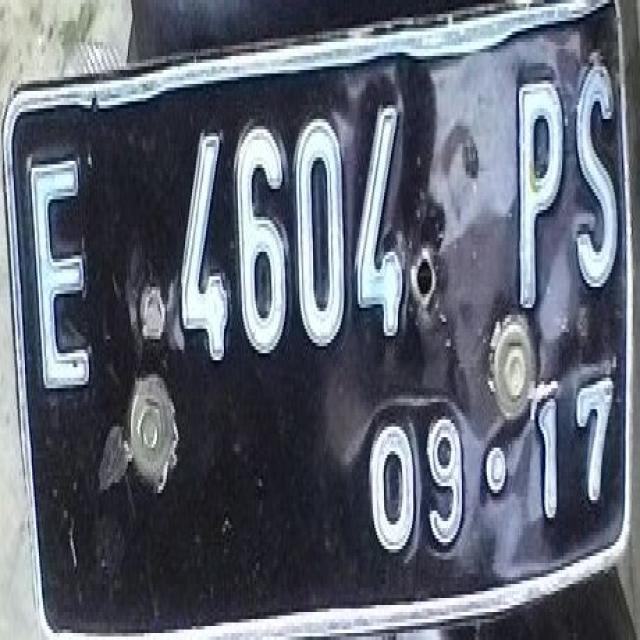plate: (4, 7, 637, 630)
